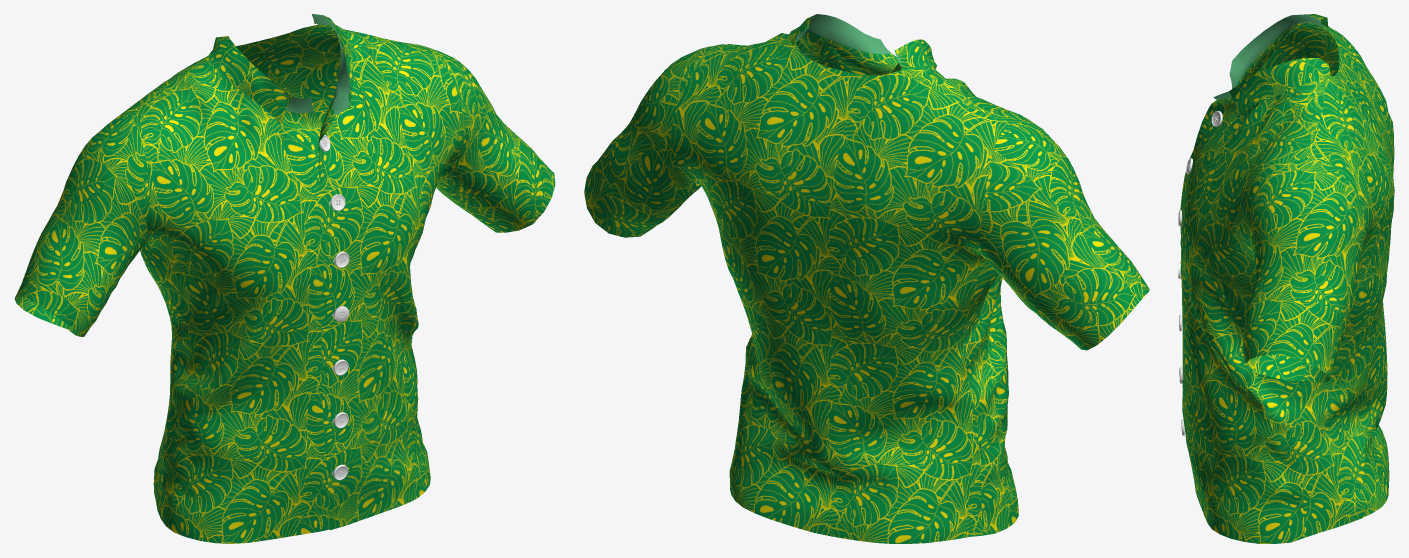
The model's file is Baju_Pendek.fbx.
3 views of the same model, side by side, from view 1: azimuth 30°, elevation 25°; view 2: azimuth 150°, elevation 25°; view 3: azimuth 270°, elevation 25° (orthographic). The views are drawn at different scales.
Parts seen in each view (by area): view 1: Baju_Pendek.002; view 2: Baju_Pendek.002; view 3: Baju_Pendek.002.
Part boxes in pixels (<box>): Baju_Pendek.002: <box>14,14,555,543</box>; Baju_Pendek.002: <box>584,14,1149,543</box>; Baju_Pendek.002: <box>1178,14,1394,543</box>.
Bounding box in the file's own units: 736 × 619 × 268.
Materials: 4 (2 with a texture image).
